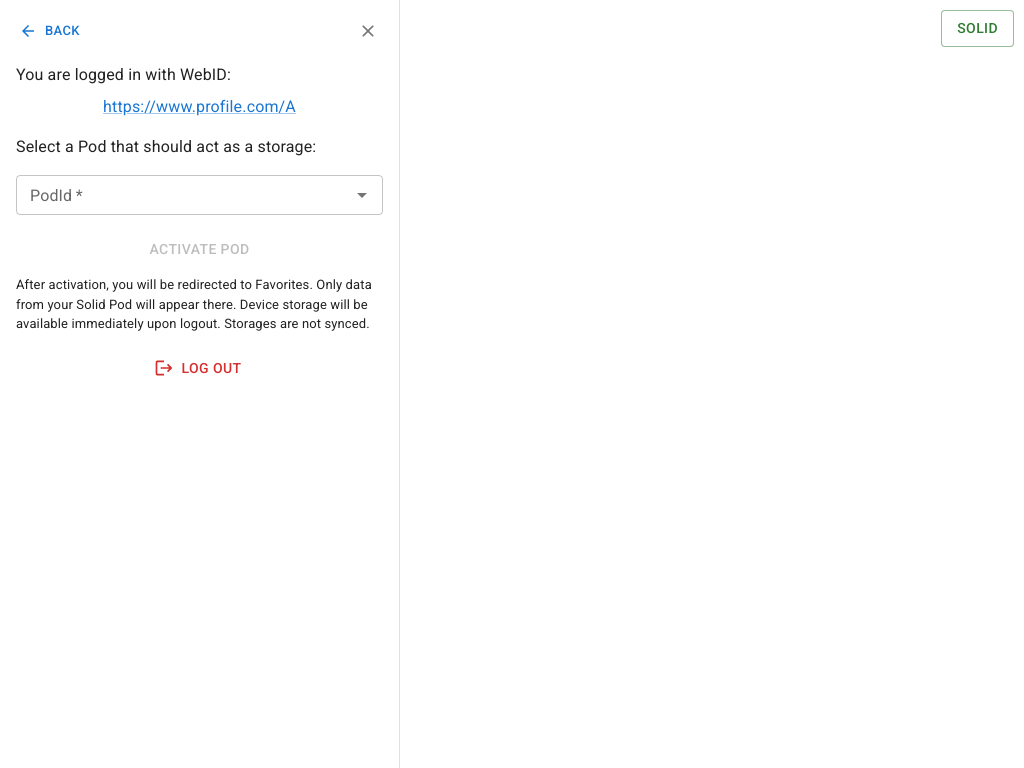
Test case: <PanelEnsemble /> › should download the list of available Solid Pods
Click the button named "Open": (362, 195) [348, 181, 376, 209]
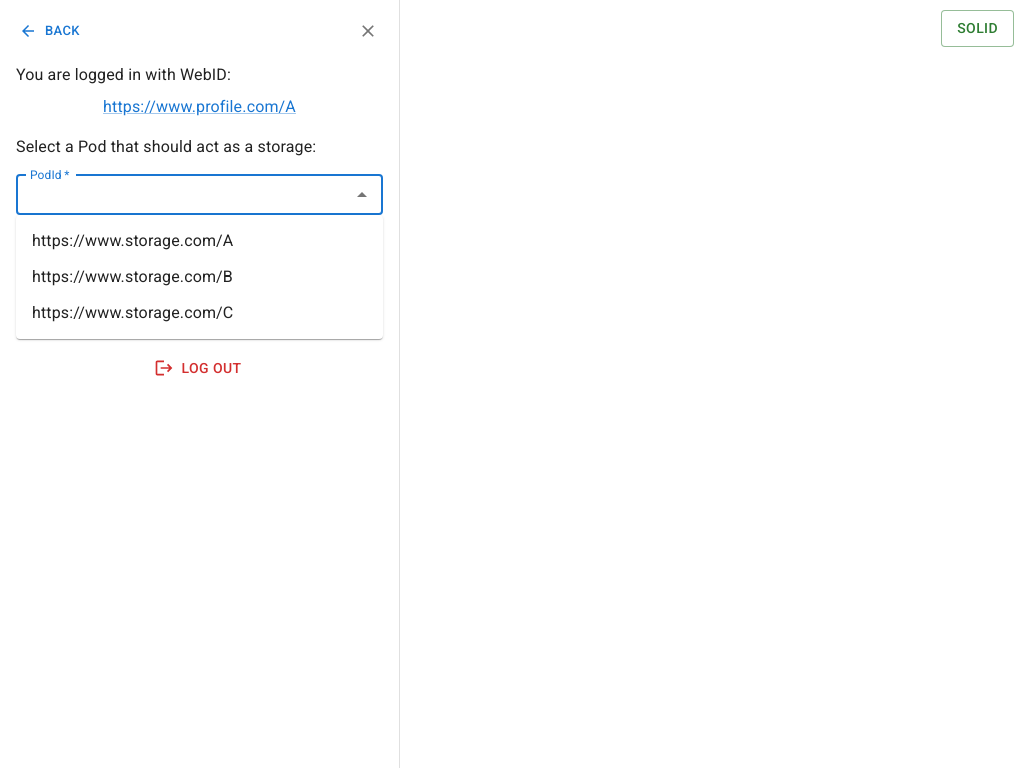
Now the number of options is 3, box [32, 231, 234, 250]; [32, 267, 233, 286]; [32, 303, 233, 322]
